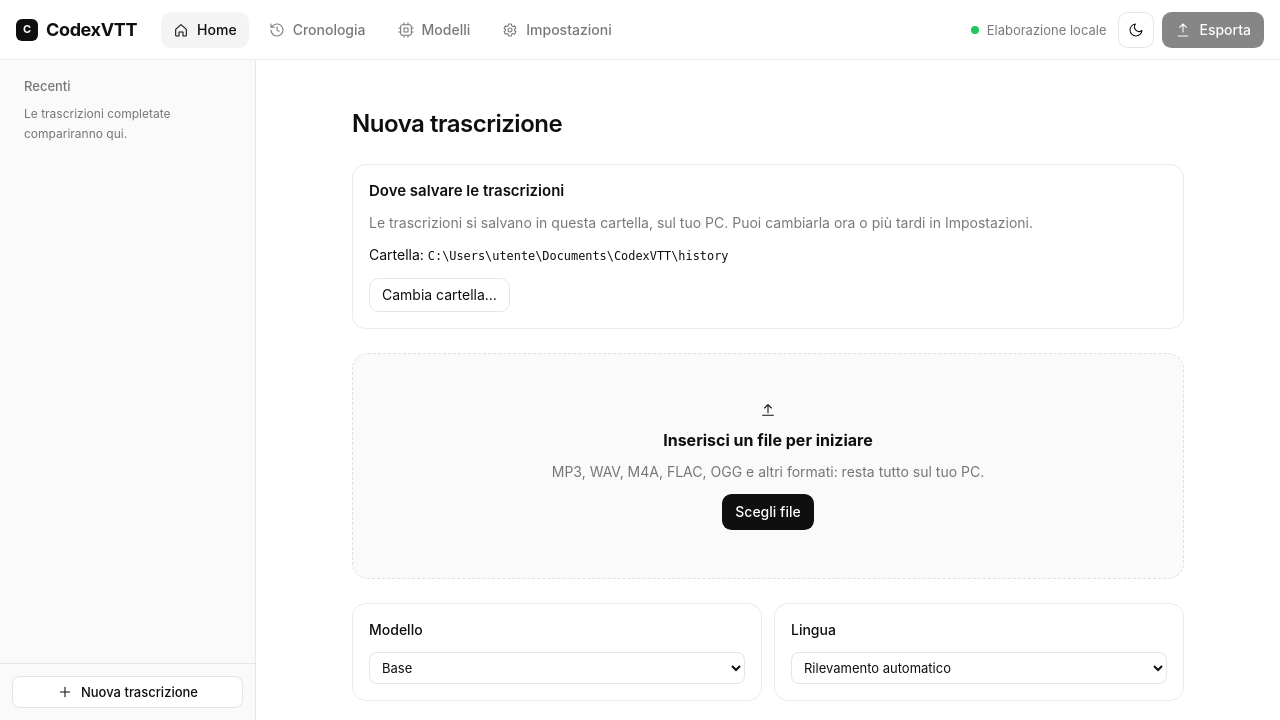
Scenario: App › lets the user take files off the queue before starting and add more
Step 1. Click the button "Inserisci un file per iniziare" → click(768, 466), box [352,353,1184,579]
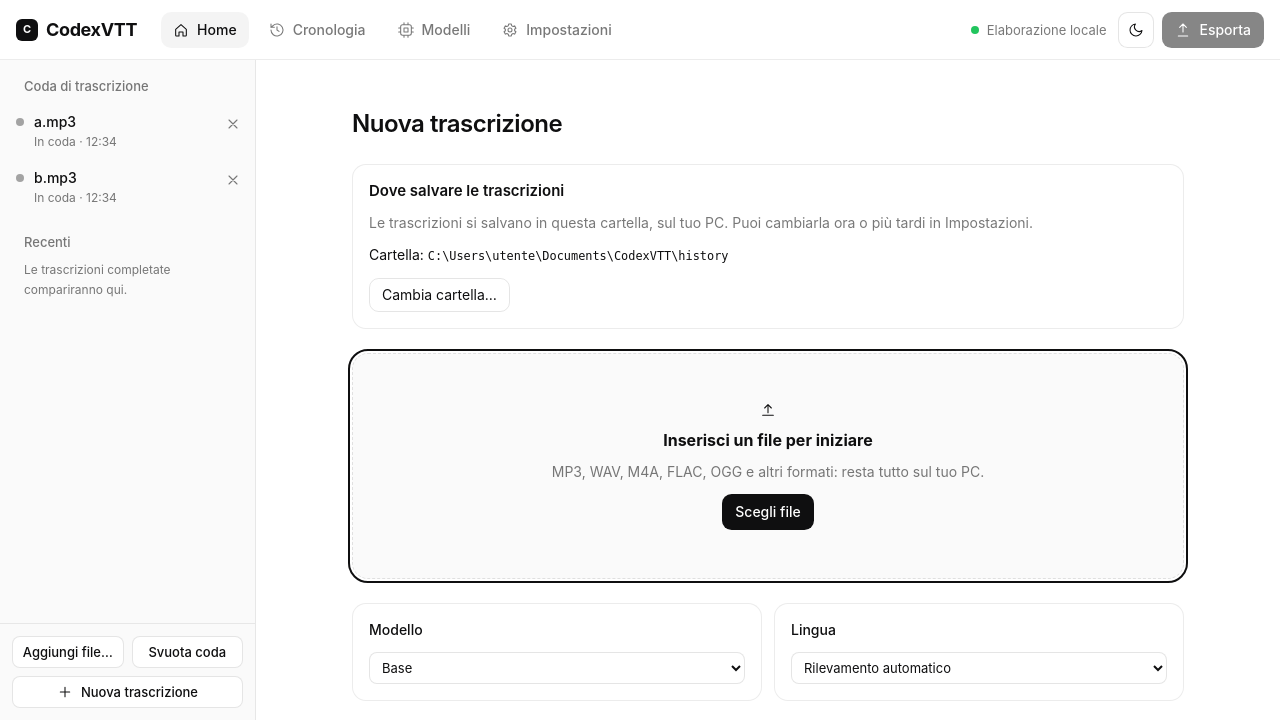
Step 2. Click the button named "Togli a.mp3 dalla coda" → click(233, 124), box [219,110,247,138]
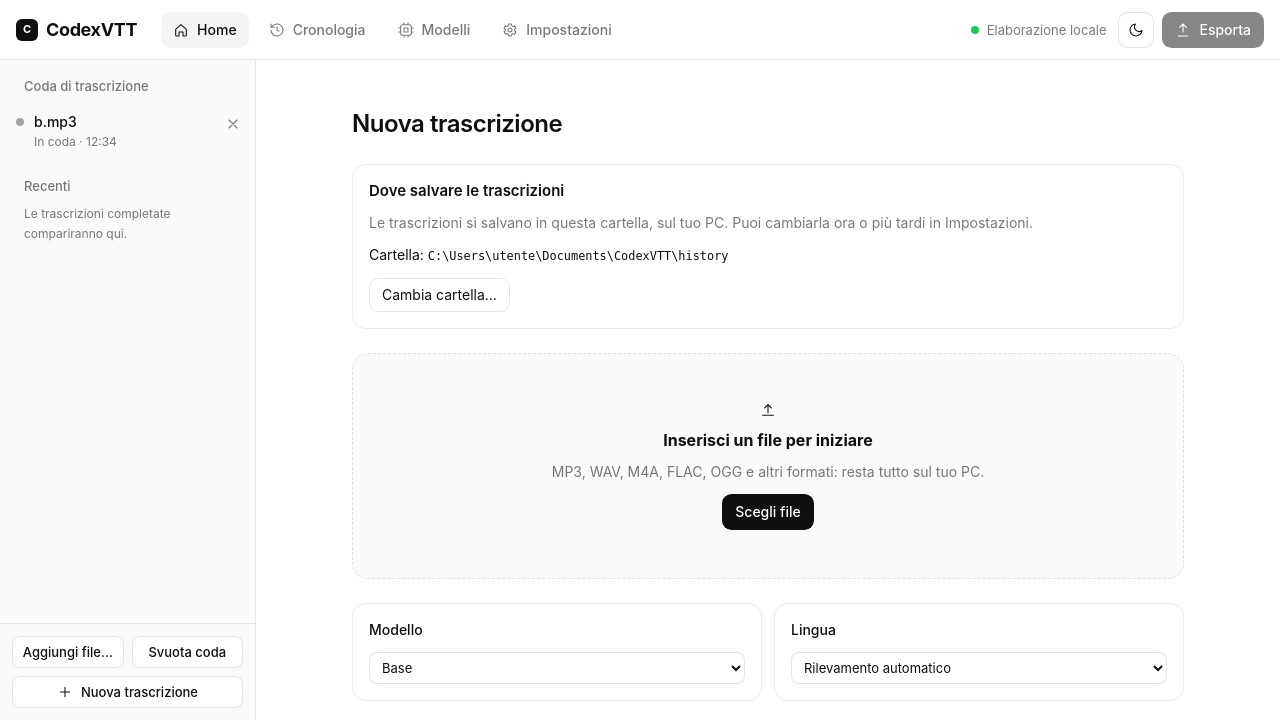
expect the button "a.mp3" is gone: met
Step 3. Click the button "Aggiungi file…" → click(68, 652), box [12,636,124,668]
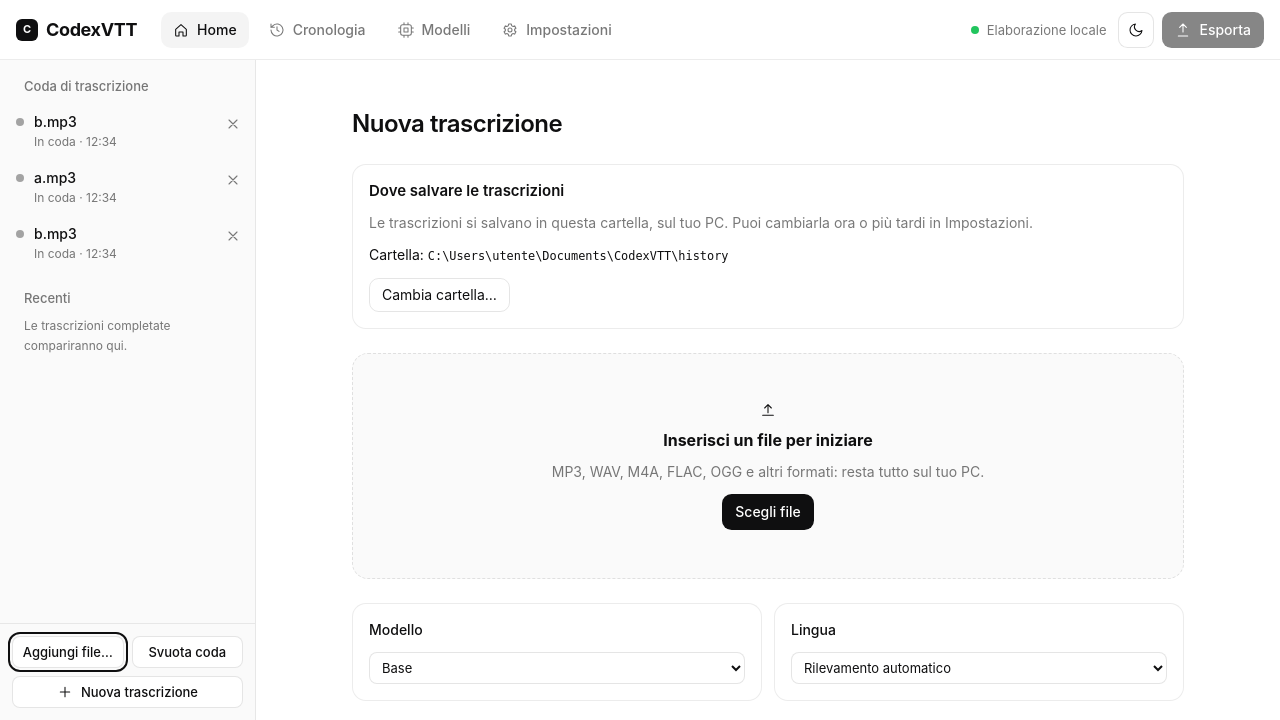
expect the number of list items "b.mp3 In coda · 12:34" is 3: met, box [8,104,247,160]; [8,160,247,216]; [8,216,247,272]
Step 4. Click the button "Svuota coda" → click(187, 652), box [132,636,243,668]
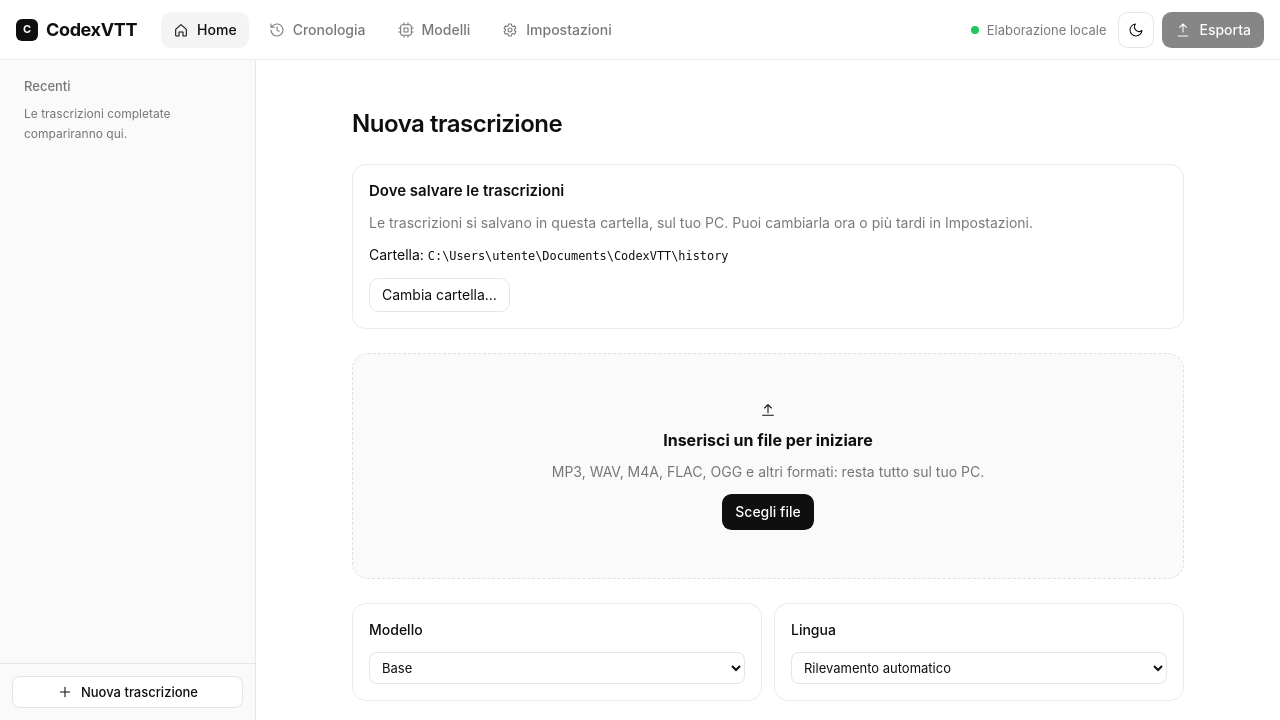
expect the heading "Coda di trascrizione" is gone: met
